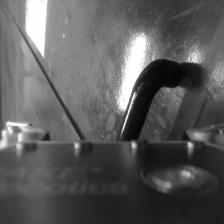Door Handle: (115, 57, 184, 143)
